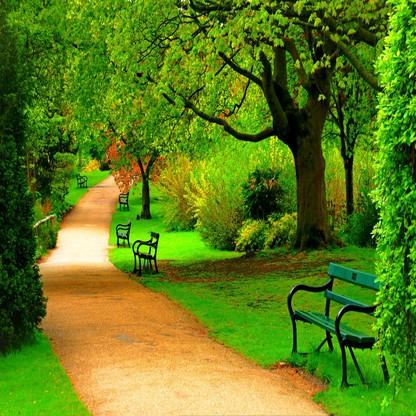obstacle: (286, 257, 388, 398), (128, 231, 164, 278), (116, 182, 131, 210)
